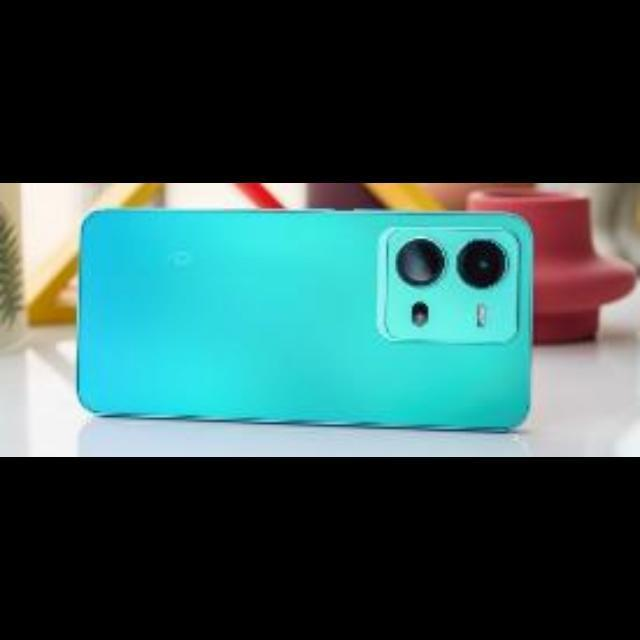PhoneUse: (79, 208, 528, 432)
